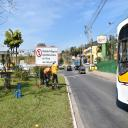NoSeguir: (36, 49, 42, 57)
